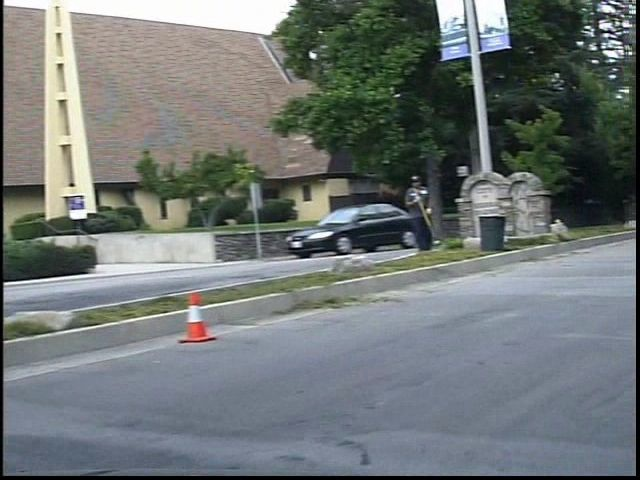person: (414, 174, 450, 260)
